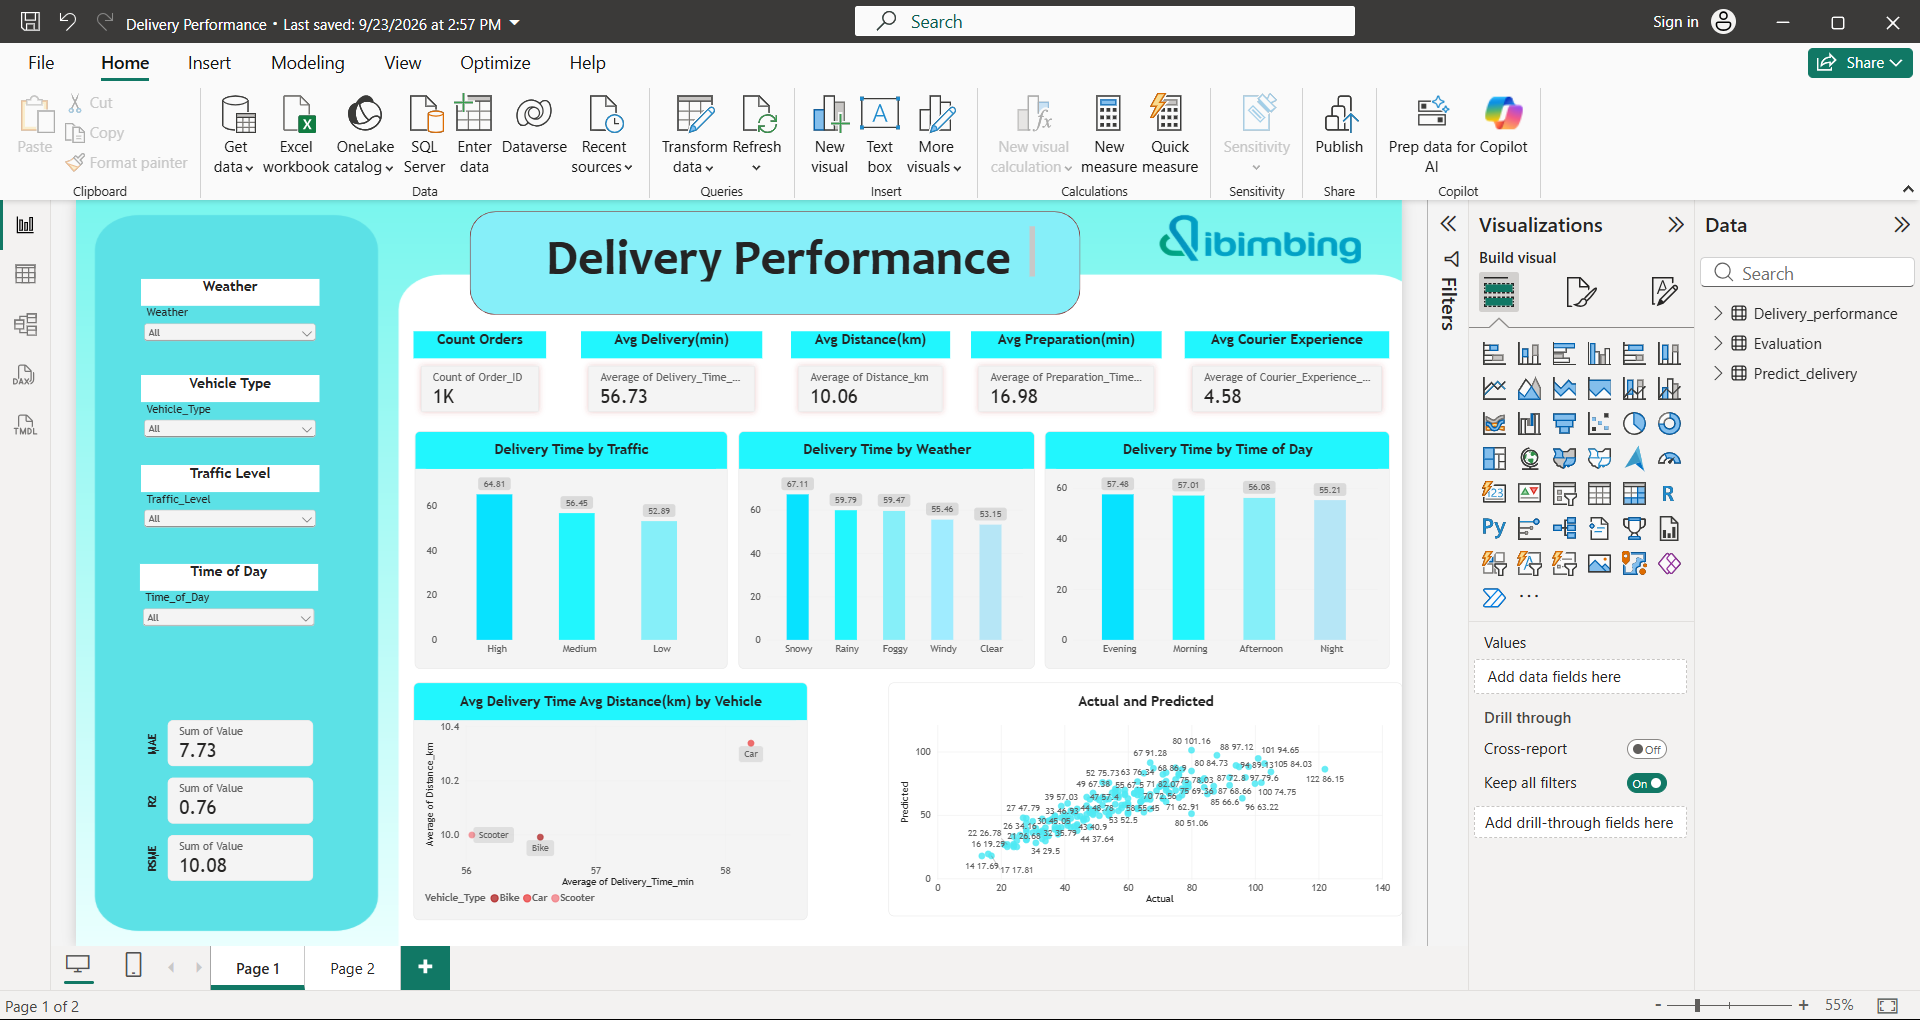

Layout of this report page (visuals, bound fields, positions):
{"tool":"powerbi","page":{"name":"Page 1","canvas":[1920,1080],"ordinal":0},"visuals":[{"type":"cardVisual","title":"Avg Delivery(min) ","fields":{"Data":["Avg(Delivery_performance.Delivery_Time_min)"]},"box":[732,190,262,128],"z":0},{"type":"clusteredColumnChart","title":"Delivery Time by Traffic","fields":{"Y":["Avg(Delivery_performance.Delivery_Time_min)"],"Category":["Delivery_performance.Traffic_Level"]},"box":[490.4,334.8,452.4,343.8],"z":1000},{"type":"cardVisual","title":"Avg Distance(km)","fields":{"Data":["Avg(Delivery_performance.Distance_km)"]},"box":[1036,190,230,128],"z":2000},{"type":"cardVisual","title":"Avg Preparation(min)","fields":{"Data":["Avg(Delivery_performance.Preparation_Time_min)"]},"box":[1296,190,276,128],"z":3000},{"type":"cardVisual","title":"Count Orders","fields":{"Data":["CountNonNull(Delivery_performance.Order_ID)"]},"box":[488,190,192,128],"z":4000},{"type":"cardVisual","title":"Avg Courier Experience","fields":{"Data":["Avg(Delivery_performance.Courier_Experience_yrs)"]},"box":[1606,190,296,128],"z":5000},{"type":"clusteredColumnChart","title":"Delivery Time by Weather","fields":{"Y":["Avg(Delivery_performance.Delivery_Time_min)"],"Category":["Delivery_performance.Weather"]},"box":[959.1,334.8,428.9,343.8],"z":6000},{"type":"scatterChart","title":"Avg Delivery Time Avg Distance(km) by Vehicle","fields":{"X":["Avg(Delivery_performance.Delivery_Time_min)"],"Y":["Avg(Delivery_performance.Distance_km)"],"Series":["Delivery_performance.Vehicle_Type"]},"box":[488.6,698.5,570,343.8],"z":7000},{"type":"clusteredColumnChart","title":"Delivery Time by Time of Day","fields":{"Y":["Avg(Delivery_performance.Delivery_Time_min)"],"Category":["Delivery_performance.Time_of_Day"]},"box":[1402.5,334.8,499.5,343.8],"z":8000},{"type":"slicer","title":"Weather","fields":{"Values":["Delivery_performance.Weather"]},"box":[94.1,114,258,104],"z":9000},{"type":"slicer","title":"Vehicle Type","fields":{"Values":["Delivery_performance.Vehicle_Type"]},"box":[94.1,253.4,258,104],"z":10000},{"type":"slicer","title":"Traffic Level","fields":{"Values":["Delivery_performance.Traffic_Level"]},"box":[94.1,383.6,258,104],"z":11000},{"type":"slicer","title":"Time of Day","fields":{"Values":["Delivery_performance.Time_of_Day"]},"box":[92.3,526.6,258,104],"z":12000},{"type":"shape","box":[570,16,884,150],"z":13000},{"type":"textbox","box":[680,38,708,80],"z":14000},{"type":"cardVisual","fields":{"Data":["Sum(Evaluation.Value)"],"Rows":["Evaluation.Metric"]},"box":[101.3,752.8,242.5,235.3],"z":15000},{"type":"scatterChart","fields":{"X":["Predict_delivery.Actual"],"Y":["Predict_delivery.Predicted"]},"box":[1176.3,698.5,743.8,338.4],"z":16000}]}

Visuals, with their boxes on the page's 1920x1080 design canvas (x1, y1, x2, y2). These are canvas units, not pixel positions in the 1920x1020 screenshot, which may show the page scaled, cropped or inside an application window:
"Avg Delivery(min) " cardVisual: (732,190,994,318)
"Delivery Time by Traffic" clusteredColumnChart: (490,335,943,679)
"Avg Distance(km)" cardVisual: (1036,190,1266,318)
"Avg Preparation(min)" cardVisual: (1296,190,1572,318)
"Count Orders" cardVisual: (488,190,680,318)
"Avg Courier Experience" cardVisual: (1606,190,1902,318)
"Delivery Time by Weather" clusteredColumnChart: (959,335,1388,679)
"Avg Delivery Time Avg Distance(km) by Vehicle" scatterChart: (489,698,1059,1042)
"Delivery Time by Time of Day" clusteredColumnChart: (1402,335,1902,679)
"Weather" slicer: (94,114,352,218)
"Vehicle Type" slicer: (94,253,352,357)
"Traffic Level" slicer: (94,384,352,488)
"Time of Day" slicer: (92,527,350,631)
shape: (570,16,1454,166)
textbox: (680,38,1388,118)
cardVisual - Sum(Evaluation.Value) x Evaluation.Metric: (101,753,344,988)
scatterChart - Predict_delivery.Actual x Predict_delivery.Predicted: (1176,698,1920,1037)
